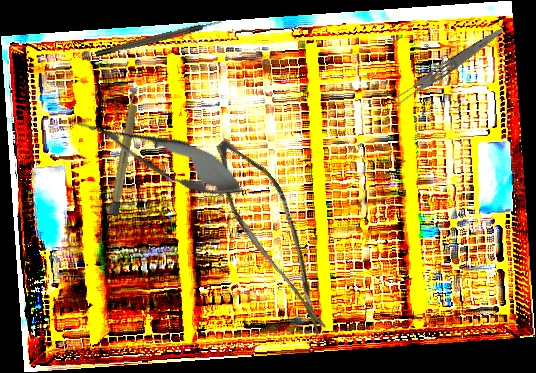Dressing Forceps: (389, 22, 506, 110)
Hook Surgical: (94, 18, 223, 58)
Micro Scissor: (184, 131, 369, 336), (68, 100, 254, 211)
Scalpel Handle: (109, 85, 142, 217)
